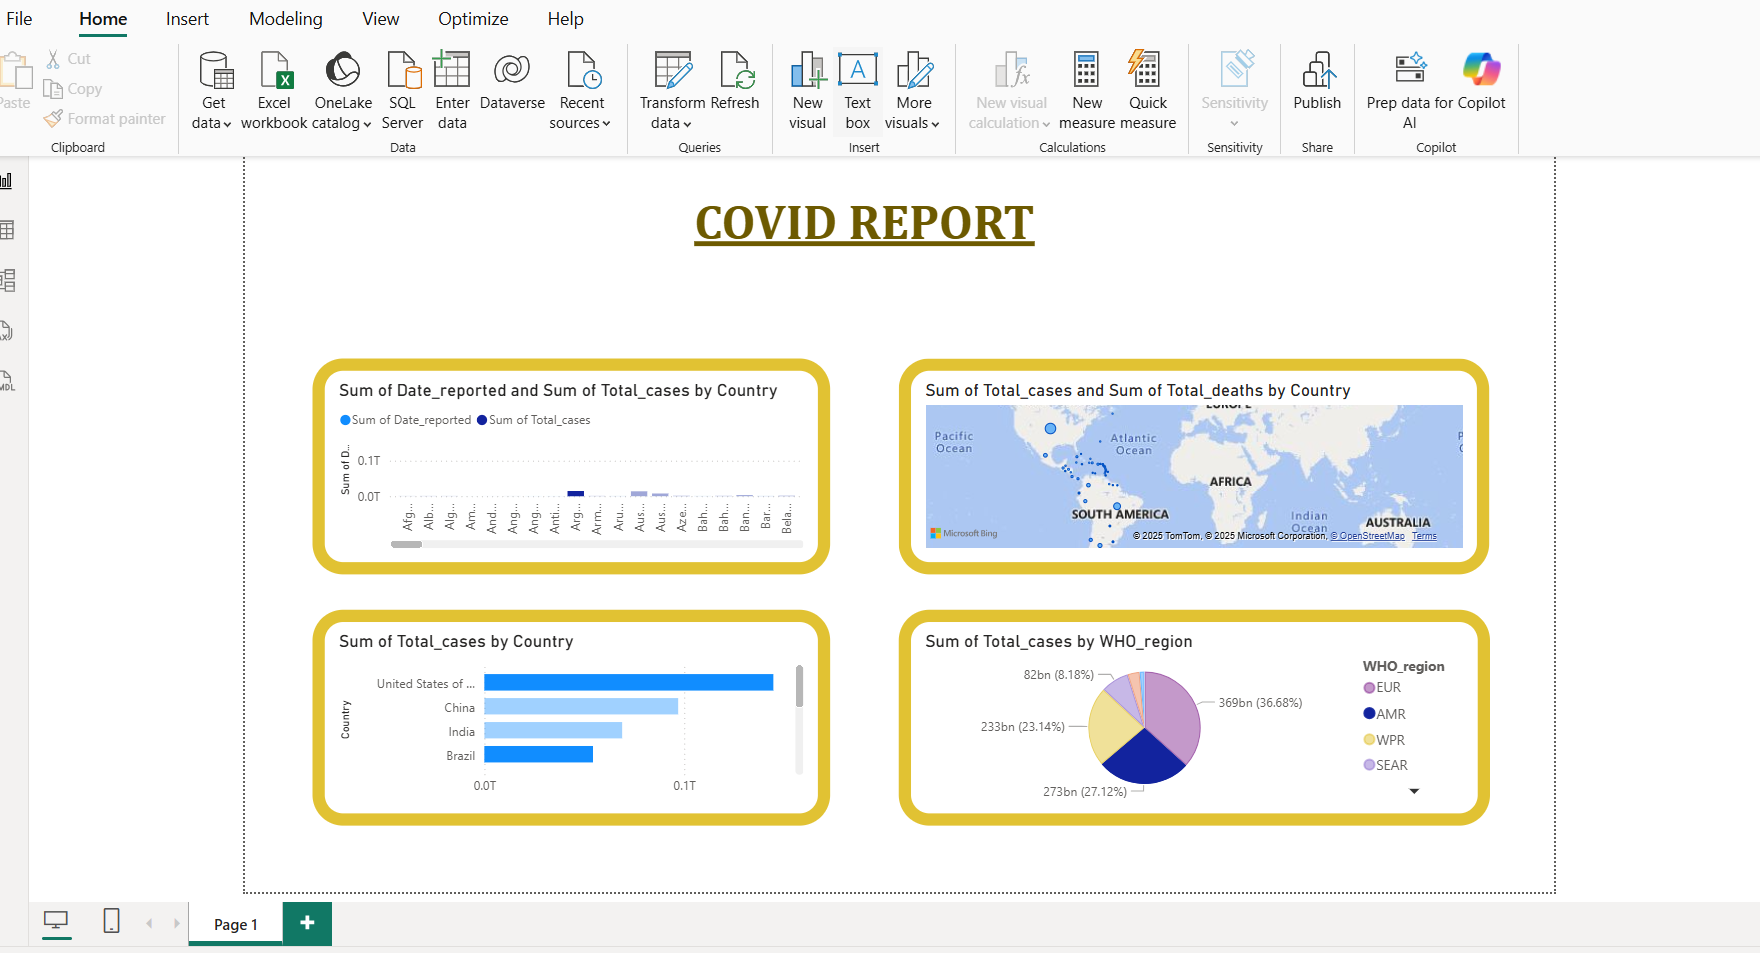

This screenshot's page, from the dashboard's own definition file:
{"tool":"powerbi","page":{"name":"Page 1","canvas":[1280,720],"ordinal":0},"visuals":[{"type":"lineStackedColumnComboChart","fields":{"Y":["Sum(WHO-COVID-19-global-daily-data.Date_reported)","Sum(WHO-COVID-19-global-daily-data.Total_cases)"],"Category":["WHO-COVID-19-global-daily-data.Country"]},"box":[65.9,197.6,506.3,211.3],"z":0},{"type":"textbox","box":[9.6,30.2,1192.5,70],"z":1000},{"type":"barChart","fields":{"Category":["WHO-COVID-19-global-daily-data.Country"],"Y":["Sum(WHO-COVID-19-global-daily-data.Total_cases)"]},"box":[66,443.5,506,211],"z":2000},{"type":"map","fields":{"Category":["WHO-COVID-19-global-daily-data.Country"],"Size":["Sum(WHO-COVID-19-global-daily-data.Total_cases)"]},"box":[639.5,197.6,577.7,211.3],"z":3000},{"type":"pieChart","fields":{"Category":["WHO-COVID-19-global-daily-data.WHO_region"],"Y":["Sum(WHO-COVID-19-global-daily-data.Total_cases)"]},"box":[639,444,578,211],"z":3001}]}

Visuals, with their boxes on the page's 1280x720 design canvas (x1, y1, x2, y2). These are canvas units, not pixel positions in the 1760x953 screenshot, which may show the page scaled, cropped or inside an application window:
lineStackedColumnComboChart - Sum(WHO-COVID-19-global-daily-data.Date_reported) x Sum(WHO-COVID-19-global-daily-data.Total_cases): Rect(66, 198, 572, 409)
textbox: Rect(10, 30, 1202, 100)
barChart - WHO-COVID-19-global-daily-data.Country x Sum(WHO-COVID-19-global-daily-data.Total_cases): Rect(66, 444, 572, 654)
map - WHO-COVID-19-global-daily-data.Country x Sum(WHO-COVID-19-global-daily-data.Total_cases): Rect(640, 198, 1217, 409)
pieChart - WHO-COVID-19-global-daily-data.WHO_region x Sum(WHO-COVID-19-global-daily-data.Total_cases): Rect(639, 444, 1217, 655)
